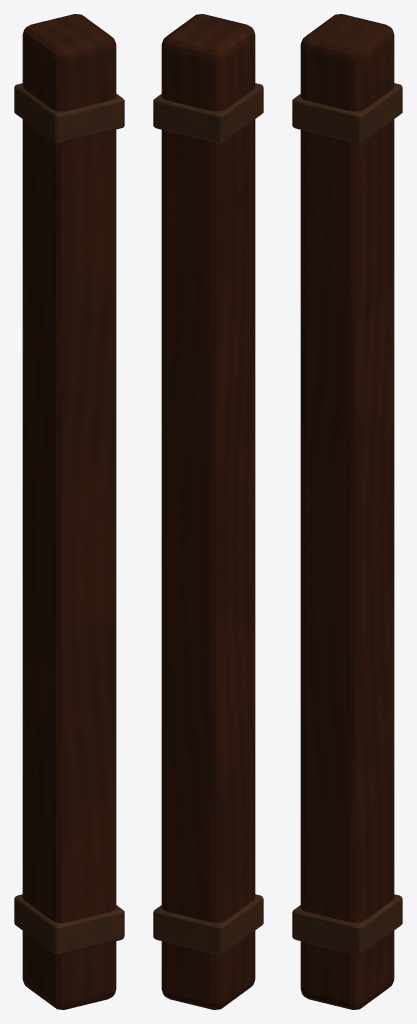
The model's file is timber_low.glb.
3 renders of one model, left to right at view 1: azimuth 30°, elevation 25°; view 2: azimuth 150°, elevation 25°; view 3: azimuth 330°, elevation 25°, orthographic.
Visible parts, largest first — view 1: Oiled_walnut, Patinated_bronze; view 2: Oiled_walnut, Patinated_bronze; view 3: Oiled_walnut, Patinated_bronze.
Part boxes in pixels (x1=…): Oiled_walnut: x1=22, y1=14, x2=116, y2=1009; Patinated_bronze: x1=14, y1=83, x2=124, y2=955; Oiled_walnut: x1=161, y1=14, x2=255, y2=1009; Patinated_bronze: x1=153, y1=83, x2=263, y2=955; Oiled_walnut: x1=300, y1=14, x2=394, y2=1009; Patinated_bronze: x1=292, y1=83, x2=402, y2=955.
Bounding box in the file's own units: 0.2886 × 3.8 × 0.3083.
2 materials, 2 textured.
